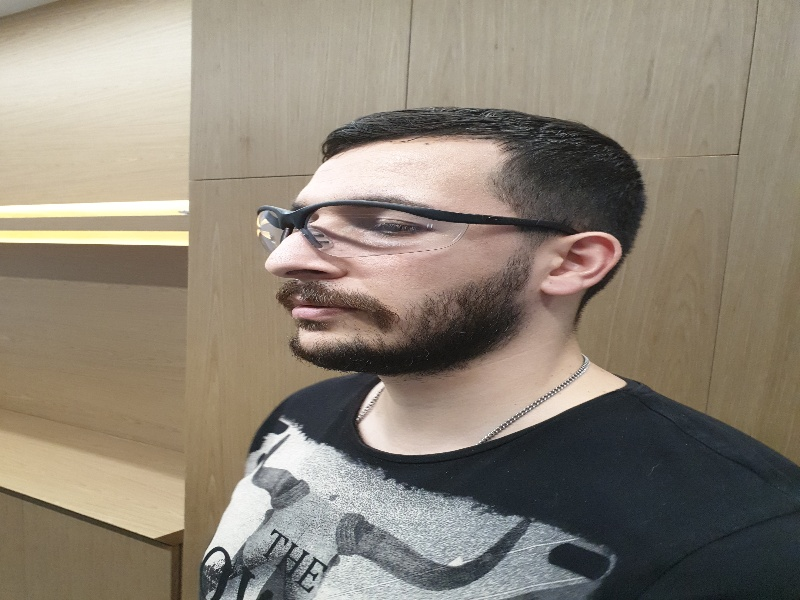Gozluk: (256, 198, 576, 250)
